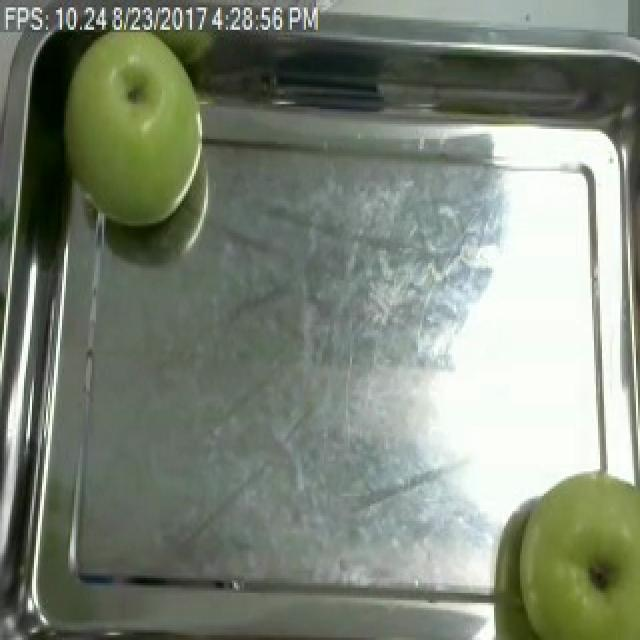50-_ripeness: (43, 27, 240, 221), (515, 470, 640, 639)
